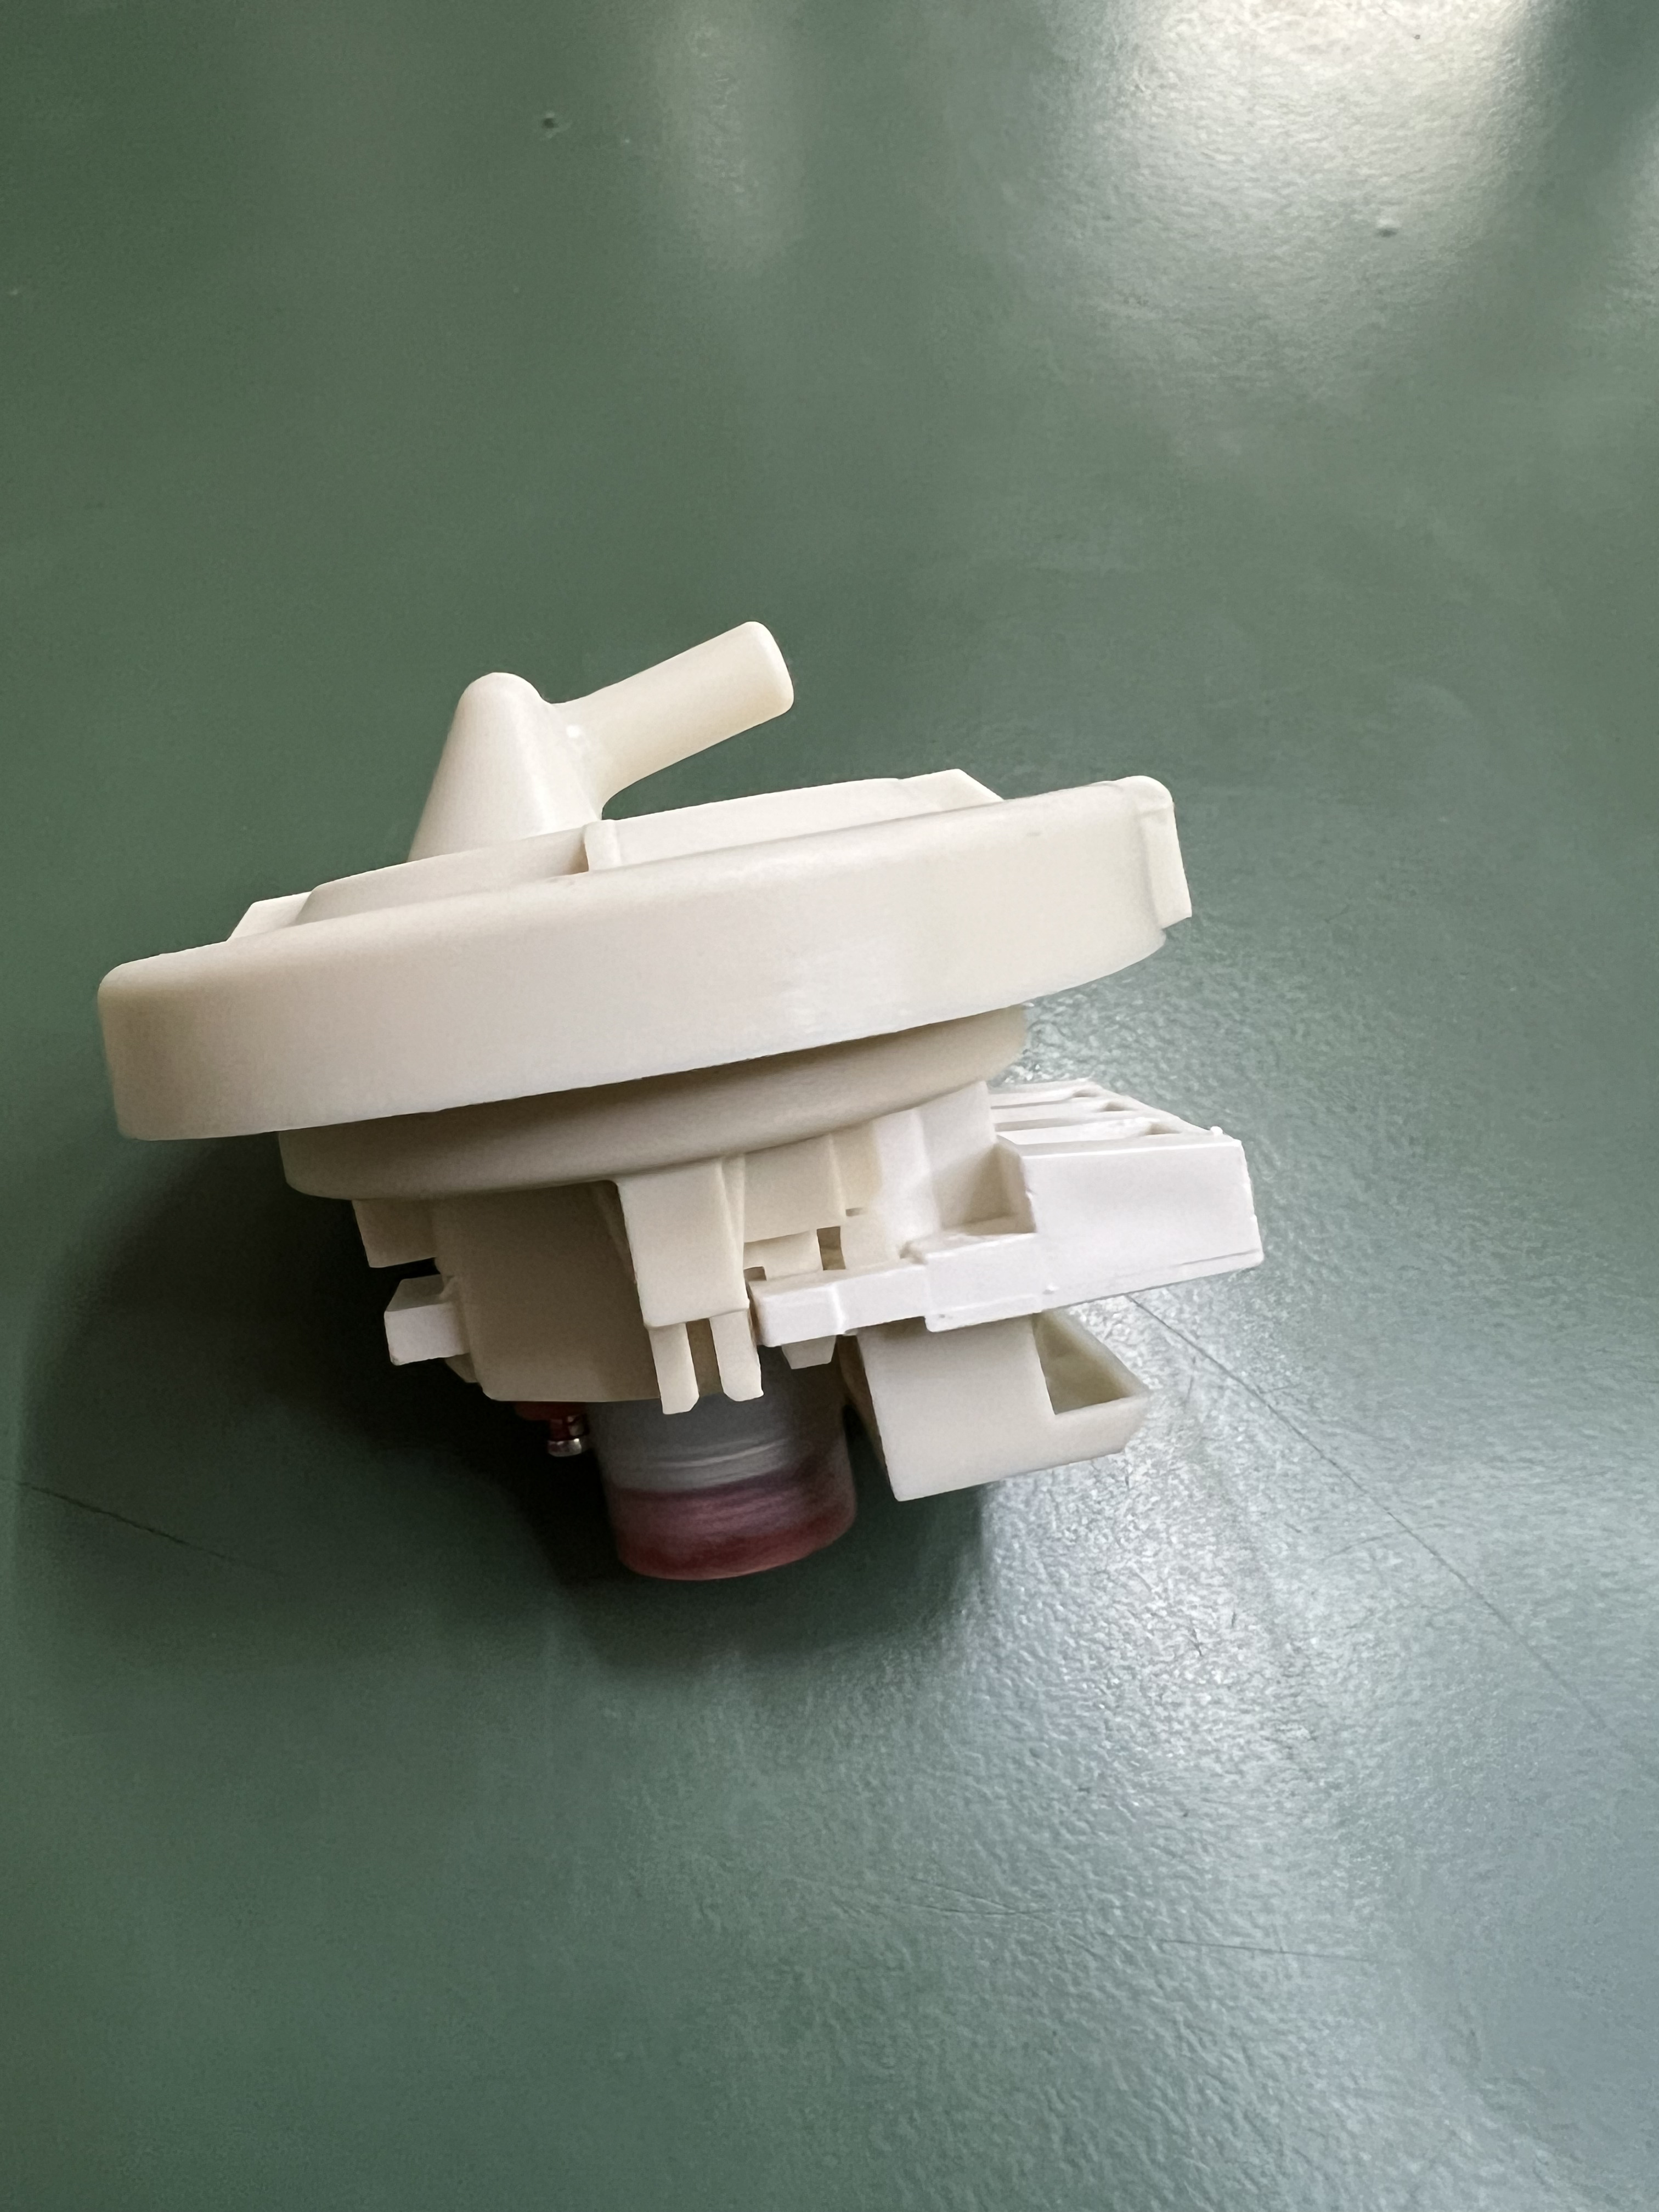pressure_sensor: (96, 608, 1270, 1595)
